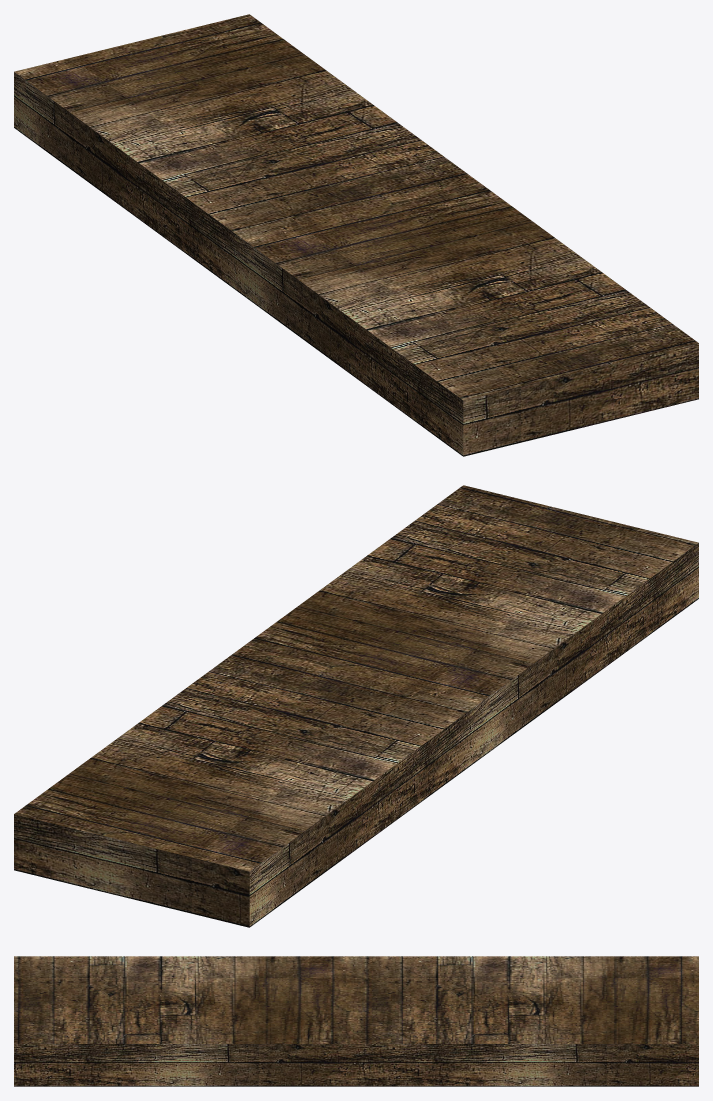
File: Forest_Platform_I.FBX
The picture shows the model from 3 angles, top to bottom: view 1: azimuth 30°, elevation 25°; view 2: azimuth 150°, elevation 25°; view 3: azimuth 270°, elevation 25°; orthographic projection. The views are drawn at different scales.
Visible parts, largest first — view 1: Platform_I; view 2: Platform_I; view 3: Platform_I.
Boxes of the visible parts, x1,y1,x2,y2 form: Platform_I: [14, 14, 698, 456]; Platform_I: [14, 485, 698, 927]; Platform_I: [14, 956, 698, 1086].
Size of the model in its own units: 773 by 176 by 2554.
